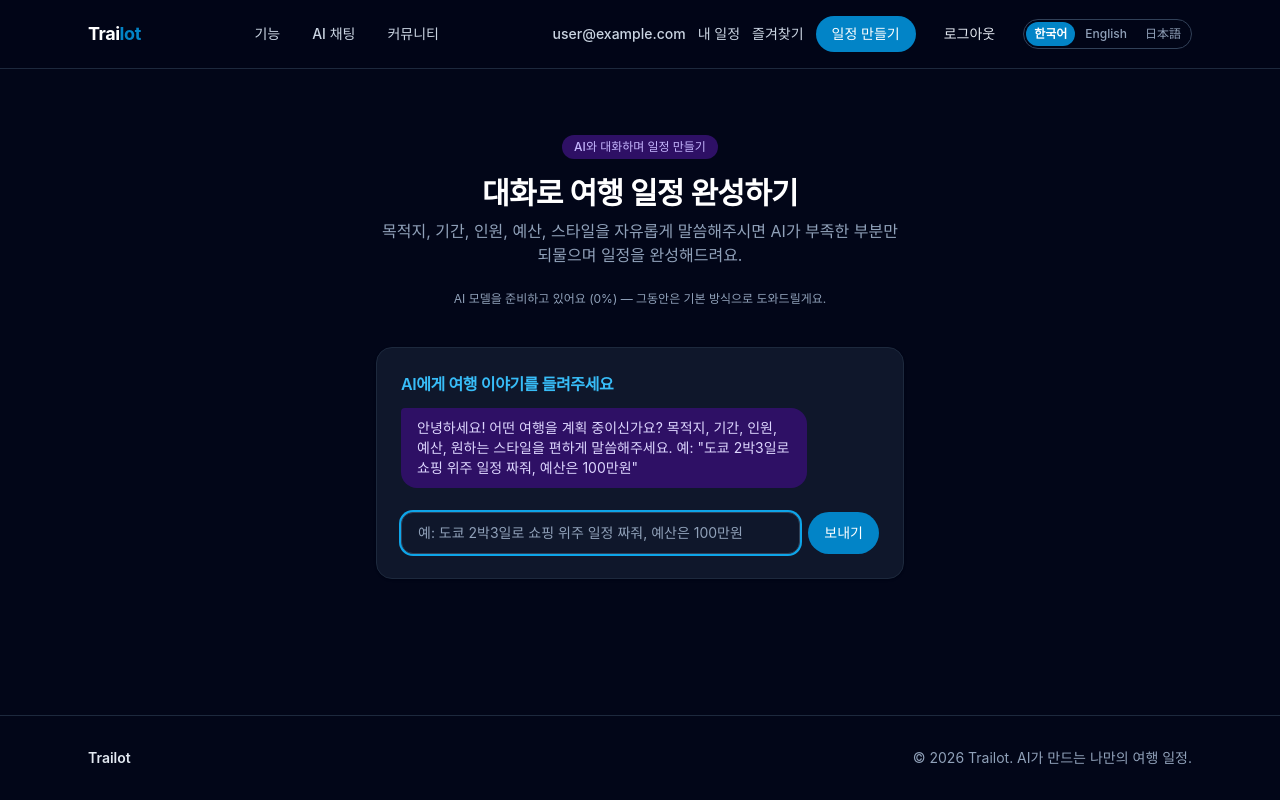
Test: PlanChatPage › tells the user their answer wasn't understood for non-style fields too, instead of silently repeating the question
In the field named "메시지 입력": [601, 533] box [401,512,800,554], type "도쿄 2박3일로 쇼핑 위주 일정 짜줘, 예산은 100만원"
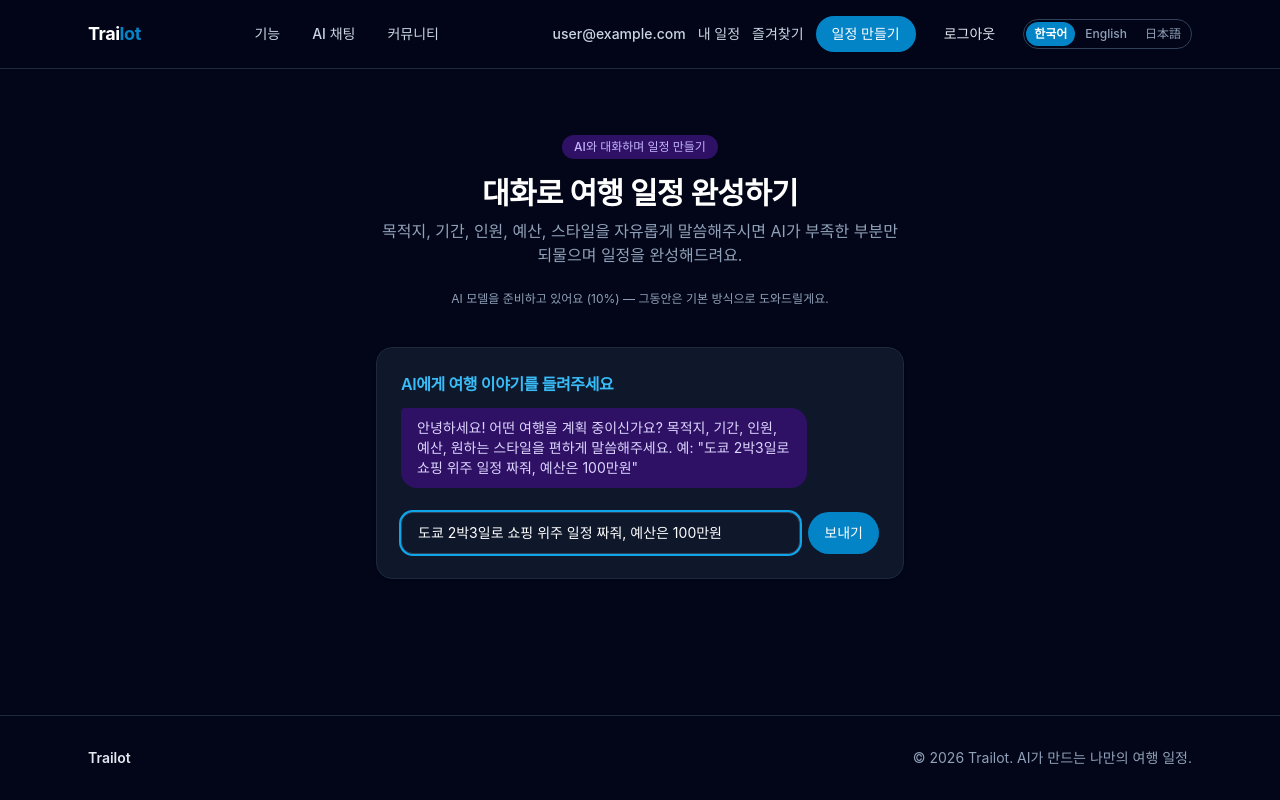
Click the button "보내기": [844, 533] box [808,512,879,554]
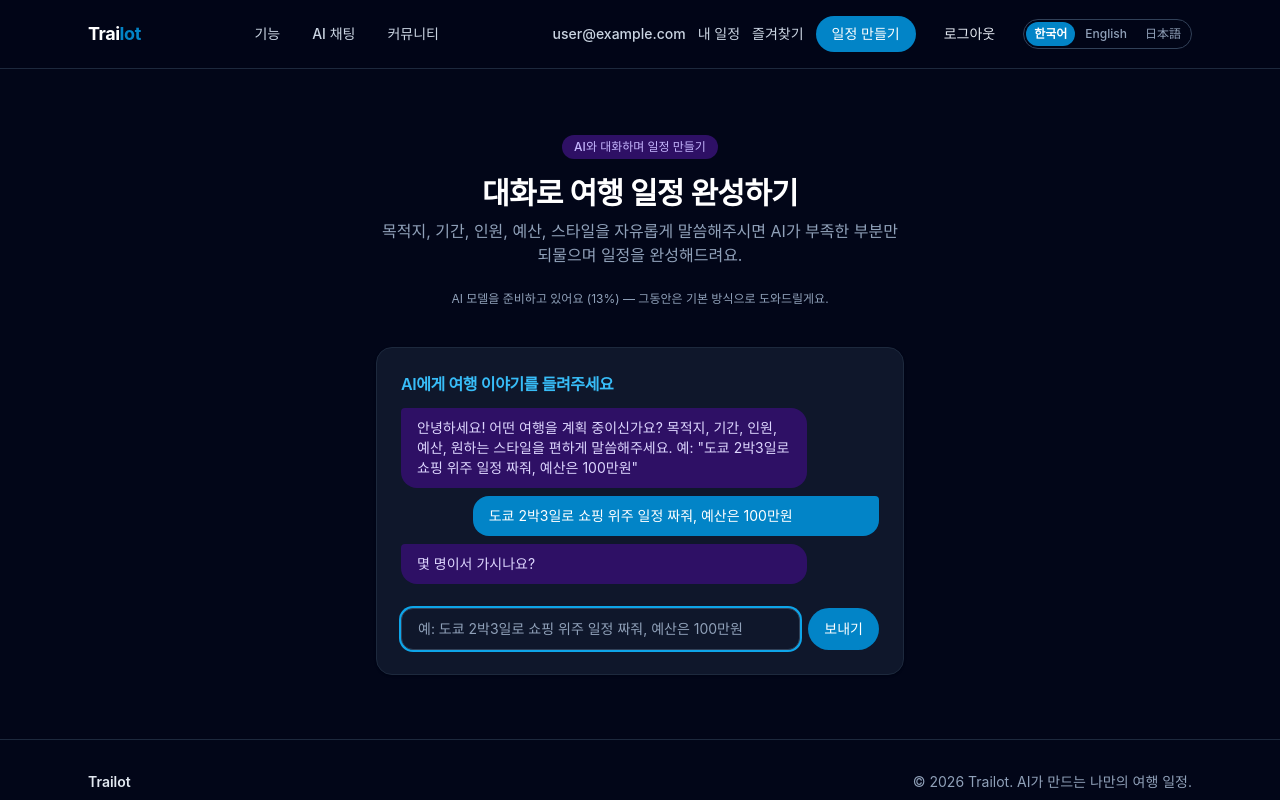
Expected: the text "몇 명이서 가시나요?" is shown, [401,544,807,584]
In the field named "메시지 입력": [601, 629] box [401,608,800,650], type "음... 잘 모르겠어요"
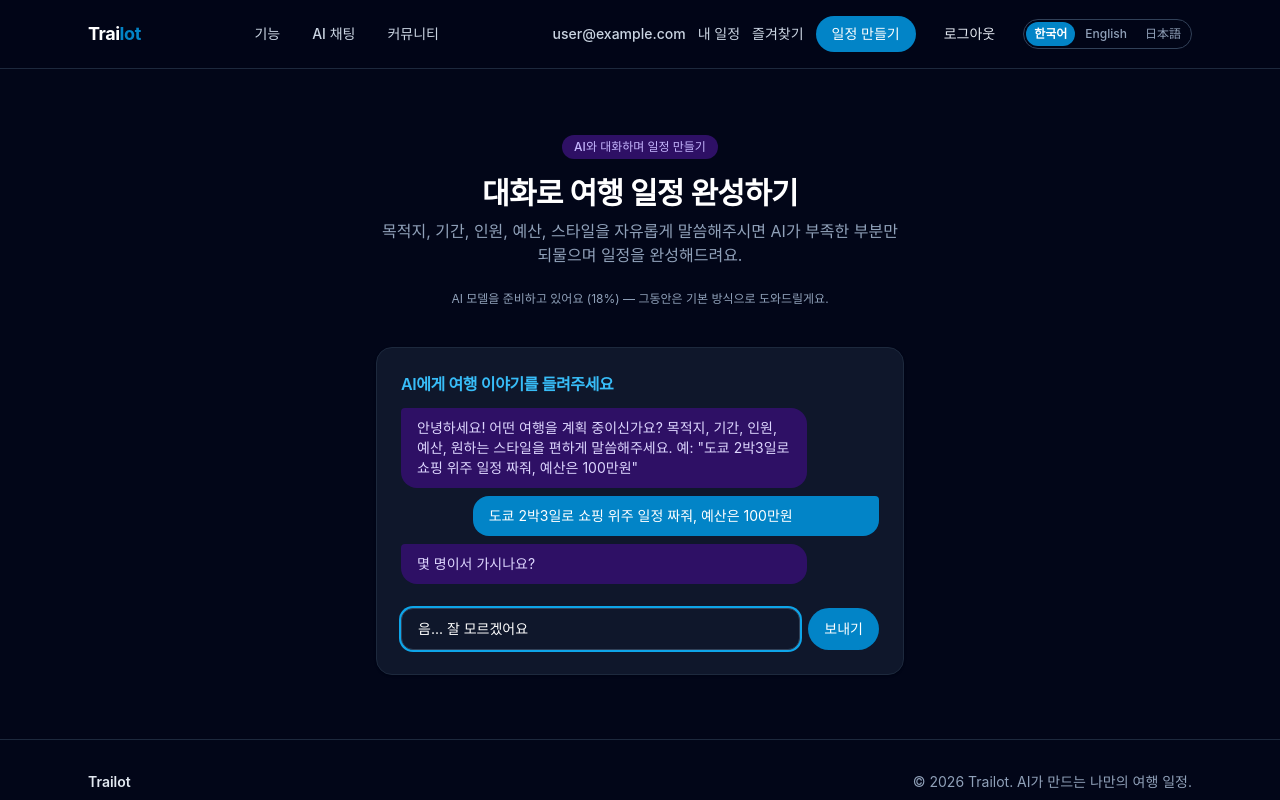
Click the button "보내기": [844, 629] box [808,608,879,650]
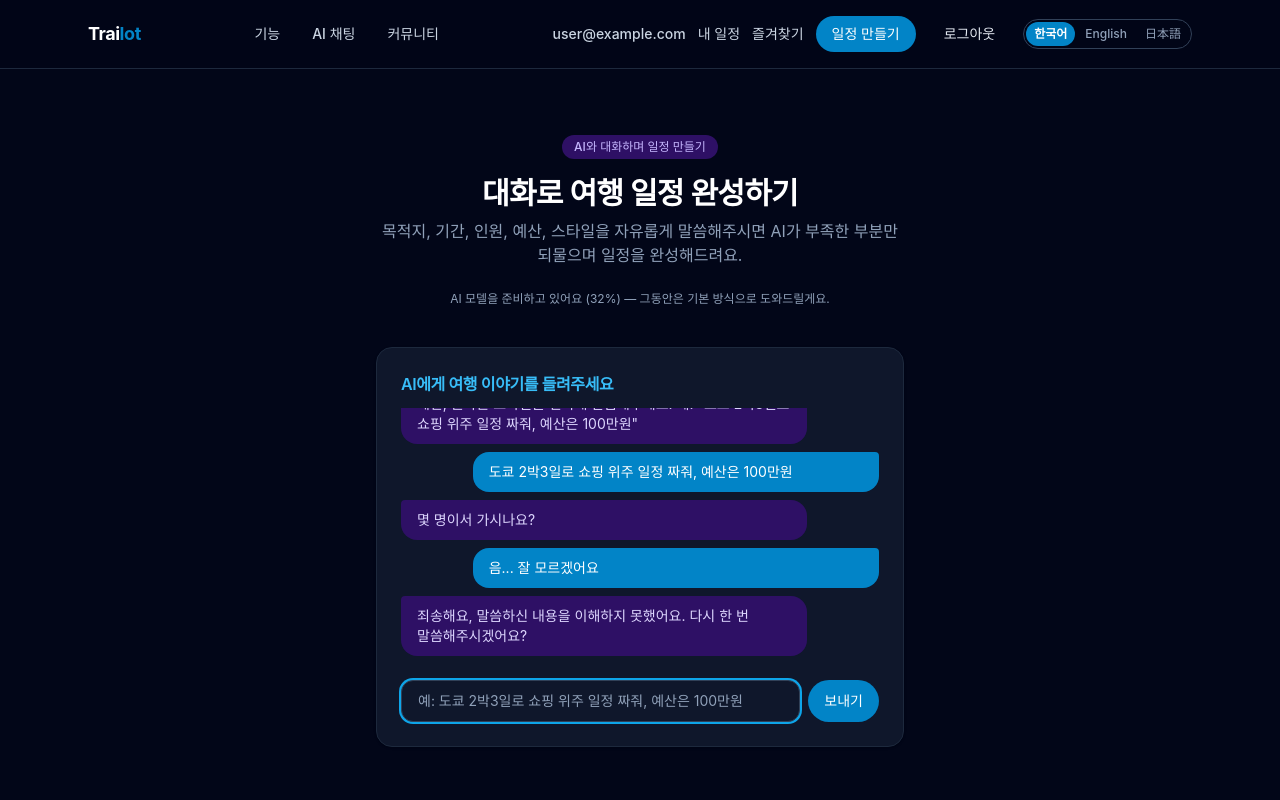
Expected: the text "죄송해요, 말씀하신 내용을 이해하지 못했어요. 다시 한 번 말씀해주시겠어요?" is shown, [401,596,807,656]
